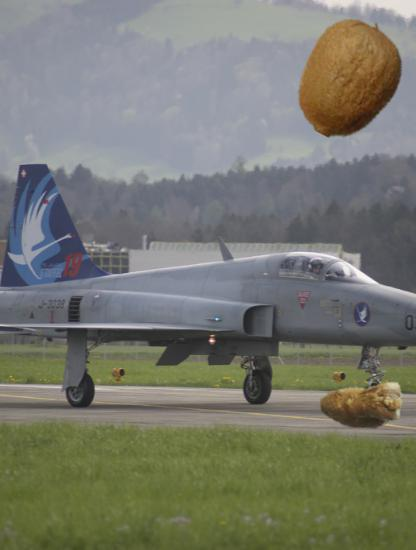Ginger: (319, 362, 404, 447)
Kiwi: (288, 17, 412, 141)
